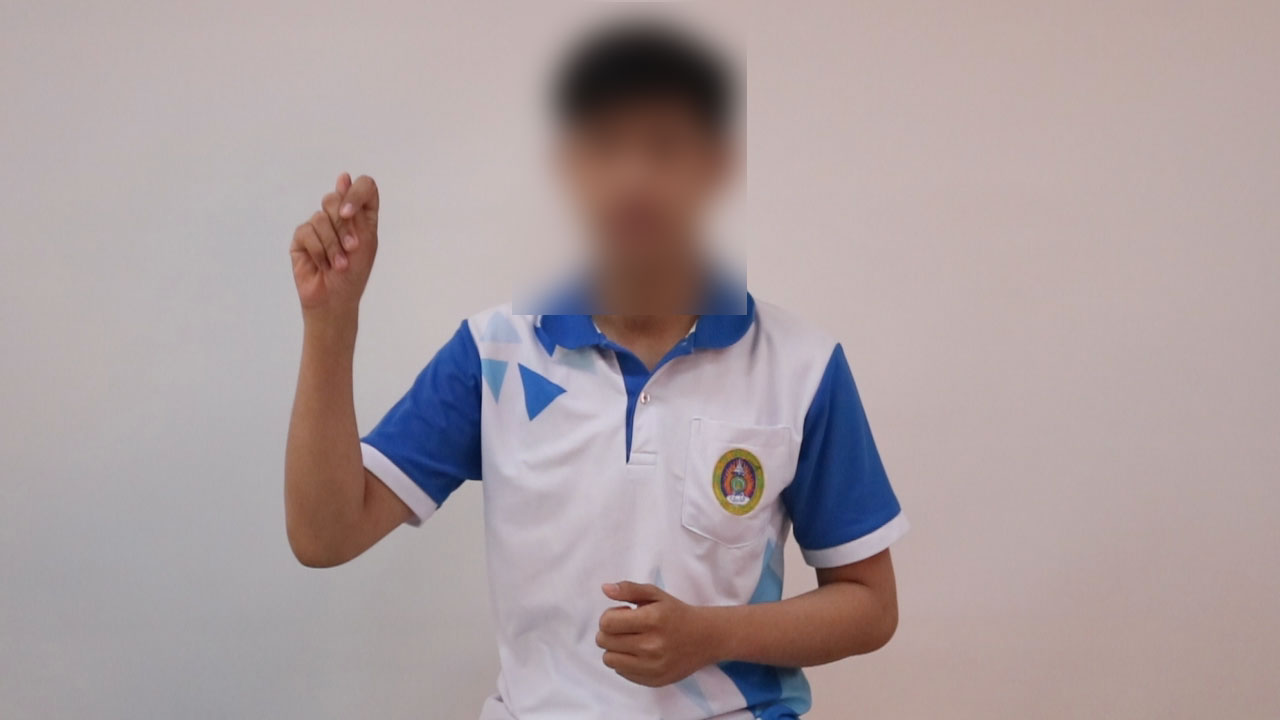tor: (271, 167, 400, 326)
